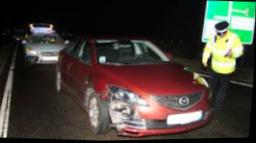Bumper: (105, 99, 145, 138)
Door: (67, 69, 89, 106)
Fender: (88, 65, 121, 101)
